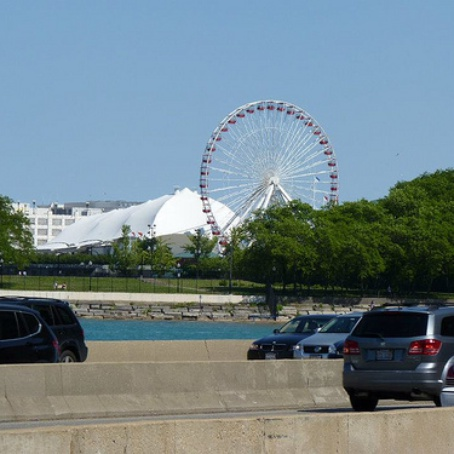building: (16, 186, 222, 265)
car: (338, 309, 454, 417), (239, 308, 319, 363), (302, 313, 360, 367)
ferris wheel: (195, 96, 341, 254)
sky: (6, 1, 454, 183)
vegetation: (229, 179, 454, 288)
